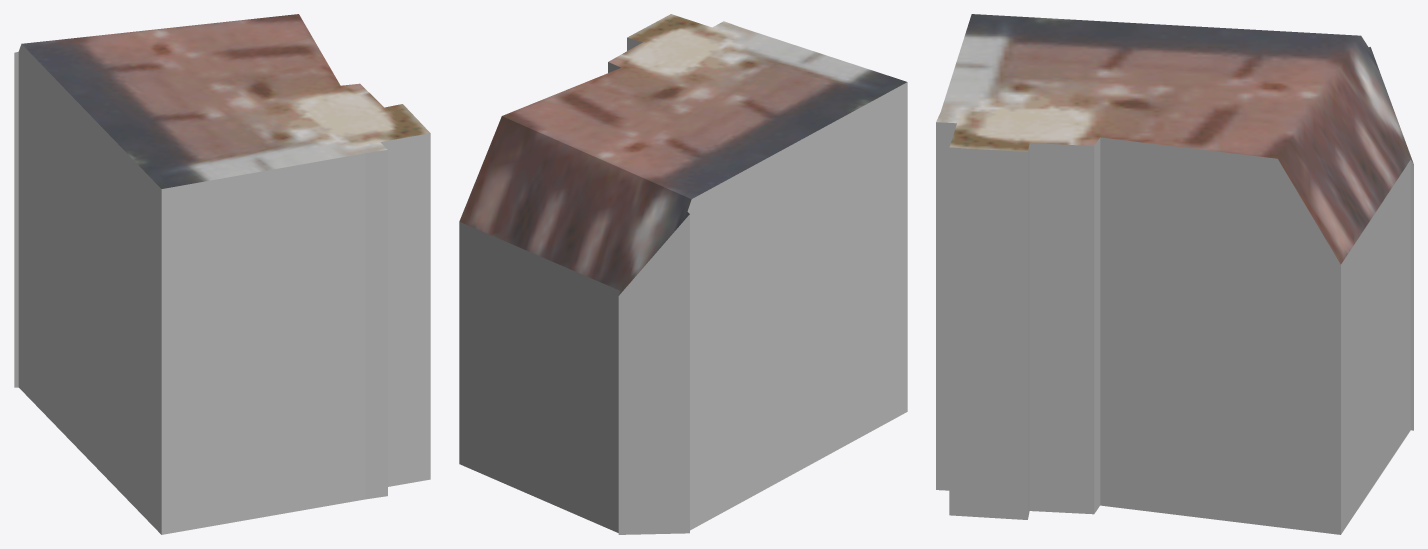
The model's file is DEBW_0010007Tx5z.gltf.
3 renders of one model, left to right at view 1: azimuth 30°, elevation 25°; view 2: azimuth 150°, elevation 25°; view 3: azimuth 270°, elevation 25°, orthographic. The views are drawn at different scales.
Visible parts, largest first — view 1: Z_UP; view 2: Z_UP; view 3: Z_UP.
Part boxes in pixels (<box>): Z_UP: <box>14,14,430,534</box>; Z_UP: <box>459,14,907,534</box>; Z_UP: <box>936,14,1413,534</box>.
Bounding box in the file's own units: 14.68 × 16.42 × 19.3.
Materials: 2 (1 with a texture image).
